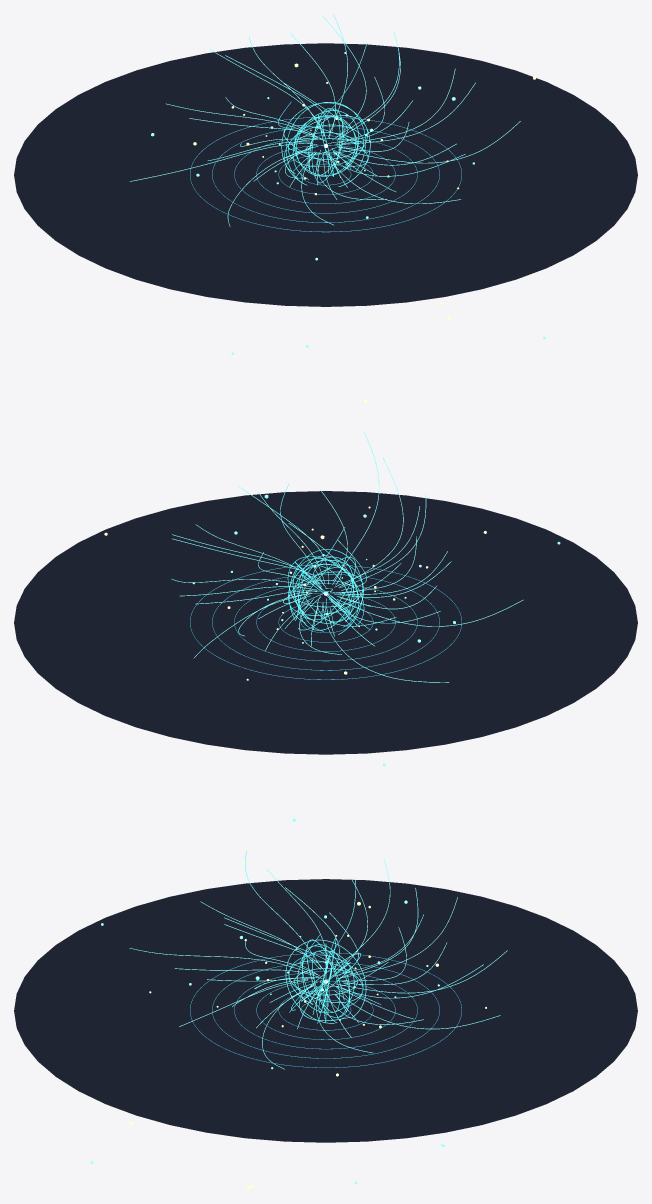
The picture shows the model from 3 angles, top to bottom: view 1: azimuth 30°, elevation 25°; view 2: azimuth 150°, elevation 25°; view 3: azimuth 270°, elevation 25°; orthographic projection.
Visible parts, largest first — view 1: Arrival_Sanctuary_Floor, Arrival_Inhale_Streams, Arrival_Harmonic_Shell, Arrival_Ripple_Rings; view 2: Arrival_Sanctuary_Floor, Arrival_Inhale_Streams, Arrival_Harmonic_Shell, Arrival_Ripple_Rings; view 3: Arrival_Sanctuary_Floor, Arrival_Inhale_Streams, Arrival_Harmonic_Shell, Arrival_Ripple_Rings.
Boxes of the visible parts, bbox=[...] form: Arrival_Sanctuary_Floor: bbox=[14, 43, 637, 306]; Arrival_Inhale_Streams: bbox=[129, 14, 520, 226]; Arrival_Harmonic_Shell: bbox=[281, 102, 370, 186]; Arrival_Ripple_Rings: bbox=[190, 117, 461, 232]; Arrival_Sanctuary_Floor: bbox=[14, 491, 637, 754]; Arrival_Inhale_Streams: bbox=[171, 432, 523, 682]; Arrival_Harmonic_Shell: bbox=[287, 549, 364, 634]; Arrival_Ripple_Rings: bbox=[190, 564, 461, 679]; Arrival_Sanctuary_Floor: bbox=[14, 879, 637, 1142]; Arrival_Inhale_Streams: bbox=[129, 850, 507, 1069]; Arrival_Harmonic_Shell: bbox=[285, 938, 366, 1023]; Arrival_Ripple_Rings: bbox=[190, 952, 461, 1067].
Size of the model in its own units: 32 by 17.57 by 32.
